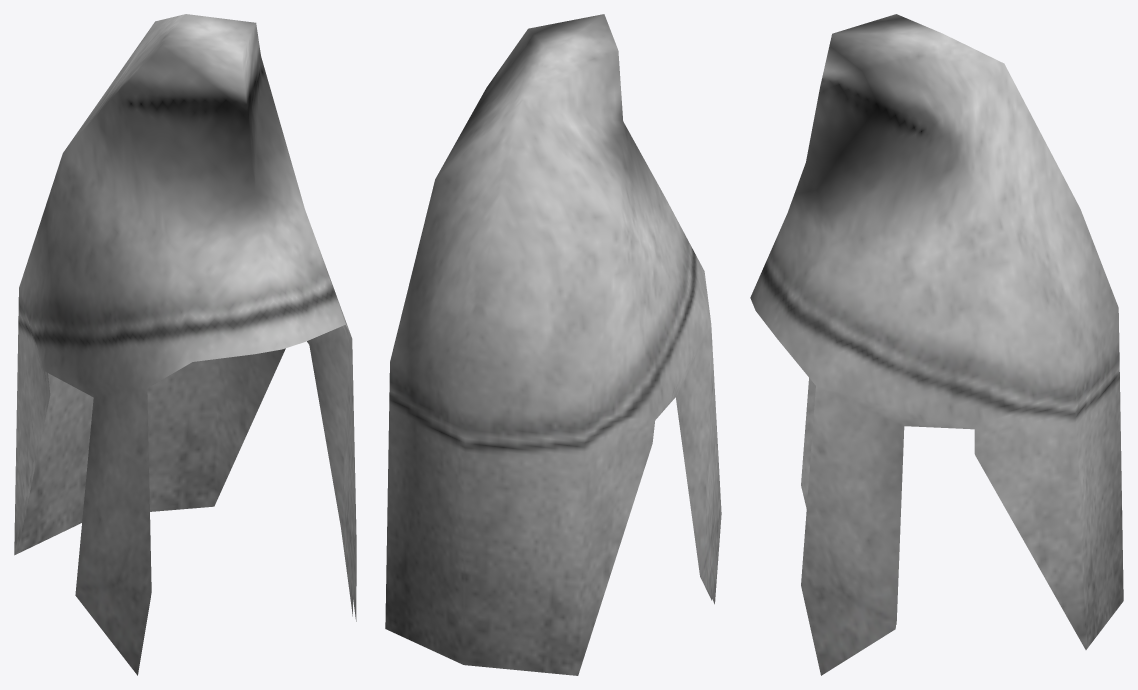
Rendered from pers_kidaris_royal_loose.dae.
3 renders of one model, left to right at view 1: azimuth 30°, elevation 25°; view 2: azimuth 150°, elevation 25°; view 3: azimuth 270°, elevation 25°, orthographic. The views are drawn at different scales.
Parts seen in each view (by area): view 1: pers_kidaris_loose001; view 2: pers_kidaris_loose001; view 3: pers_kidaris_loose001.
Boxes of the visible parts, x1=… form: pers_kidaris_loose001: x1=14, y1=14, x2=356, y2=675; pers_kidaris_loose001: x1=385, y1=14, x2=721, y2=675; pers_kidaris_loose001: x1=750, y1=14, x2=1123, y2=675.
Bounding box in the file's own units: 0.5183 × 0.626 × 1.09.
